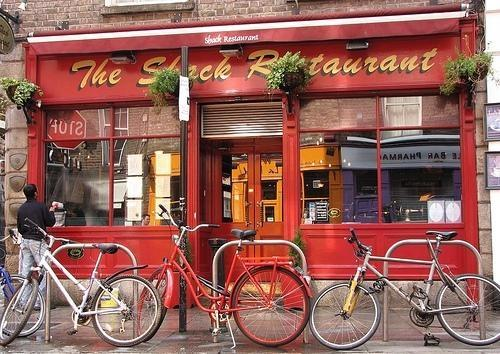bicycle: (146, 205, 314, 349), (310, 230, 500, 350), (3, 223, 158, 347), (0, 262, 38, 322)
